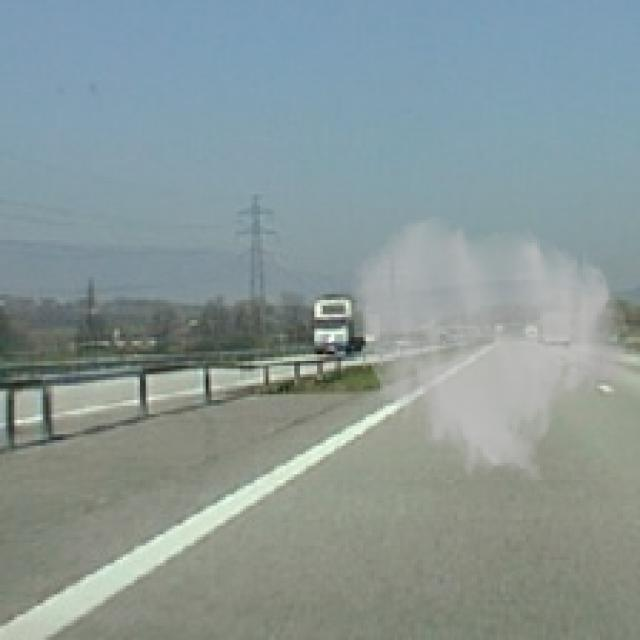Smoke: (348, 214, 632, 486)
